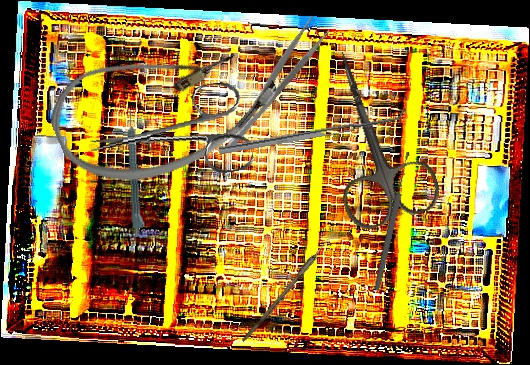Cannula: (37, 5, 291, 208)
Dressing Forceps: (214, 15, 332, 152)
Handpiece: (125, 110, 147, 238)
Iris Scissors: (298, 36, 445, 235), (83, 79, 256, 193)
Spatula Surgical: (217, 106, 408, 155)
Surgical Spoon: (241, 222, 343, 345), (372, 151, 413, 291)
